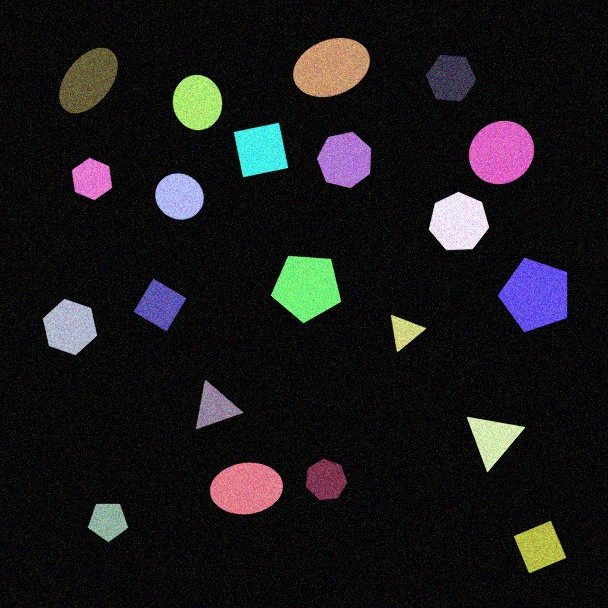Circulo: (468, 120, 535, 185), (172, 74, 223, 131), (154, 173, 205, 220)
Elipse: (292, 37, 371, 98), (58, 47, 119, 114), (209, 462, 284, 515)
Heptagono: (428, 191, 490, 251), (316, 131, 372, 189), (305, 458, 348, 501)
Hexagono: (42, 298, 98, 356), (425, 54, 477, 102), (71, 157, 113, 201)
Pentagono: (497, 257, 568, 333), (270, 255, 342, 324), (87, 503, 129, 543)
Quadrado: (233, 122, 289, 178), (133, 278, 187, 332), (513, 520, 567, 574)
Triangulo: (466, 416, 526, 473), (195, 379, 244, 430), (390, 314, 427, 353)
